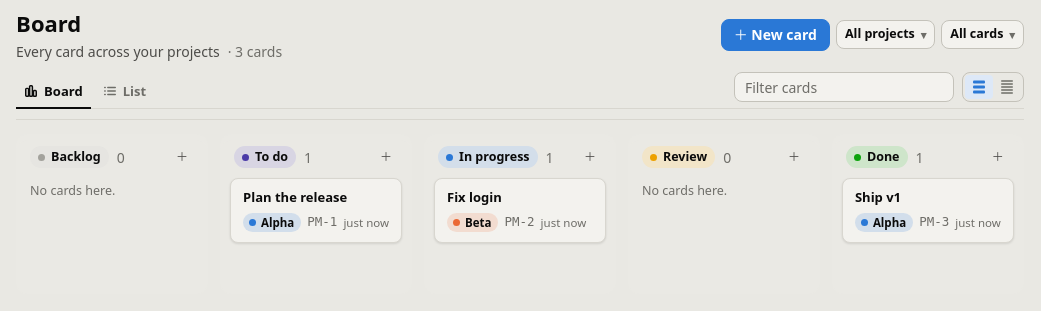
Test: BoardPage › switches density with a two-icon toggle and remembers it
Expected: the text "Plan the release" is shown, [243, 189, 347, 206]
Click the radio button named "Compact" at (1007, 87), box [993, 75, 1021, 99]
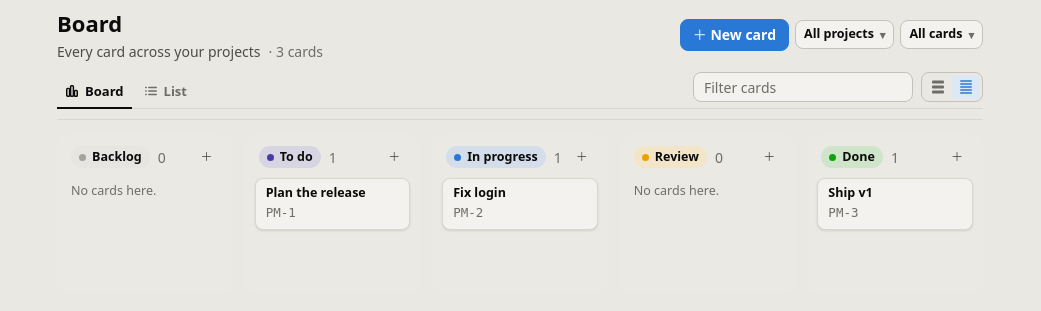
Now the element with class "is-compact" is shown, box [57, 134, 983, 294]
